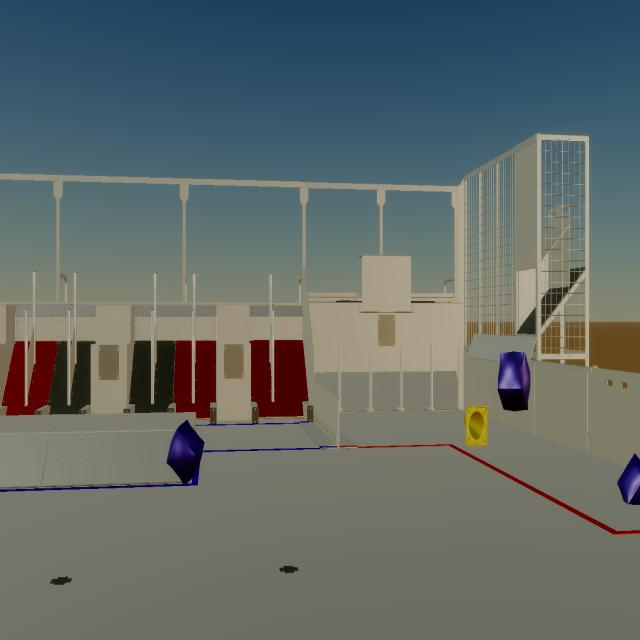frc_cone: (464, 406, 488, 446)
frc_cube: (166, 419, 205, 486), (498, 352, 530, 412), (617, 453, 640, 505)
